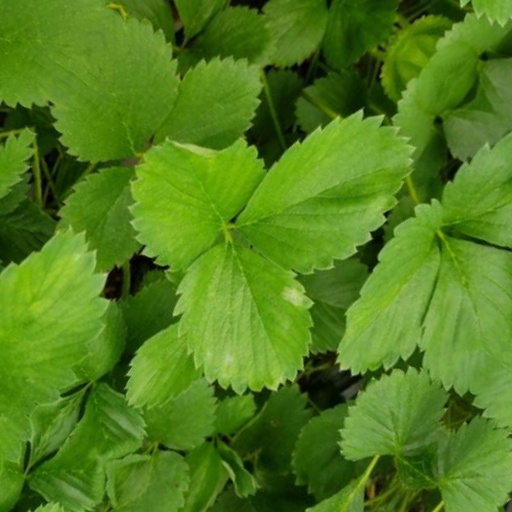Powdery Mildew Leaf: (150, 125, 307, 265)
